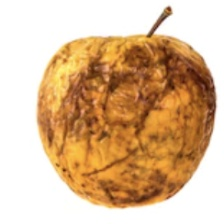apple: (51, 38, 189, 180)
